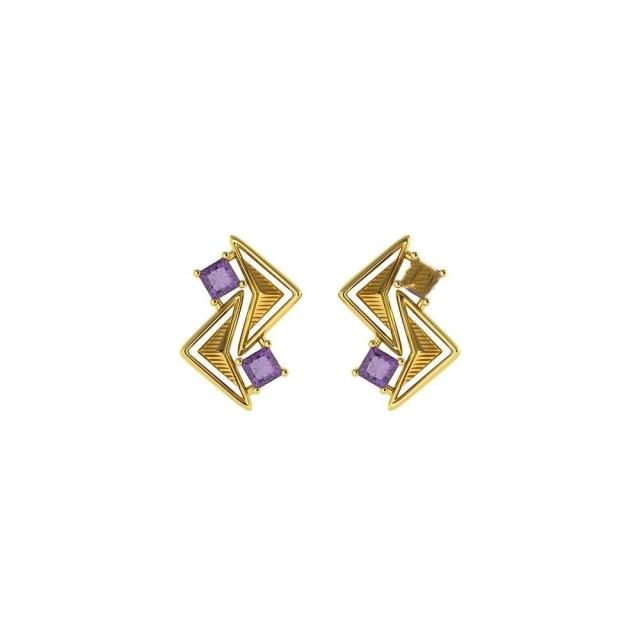missing gem: (400, 258, 441, 299)
